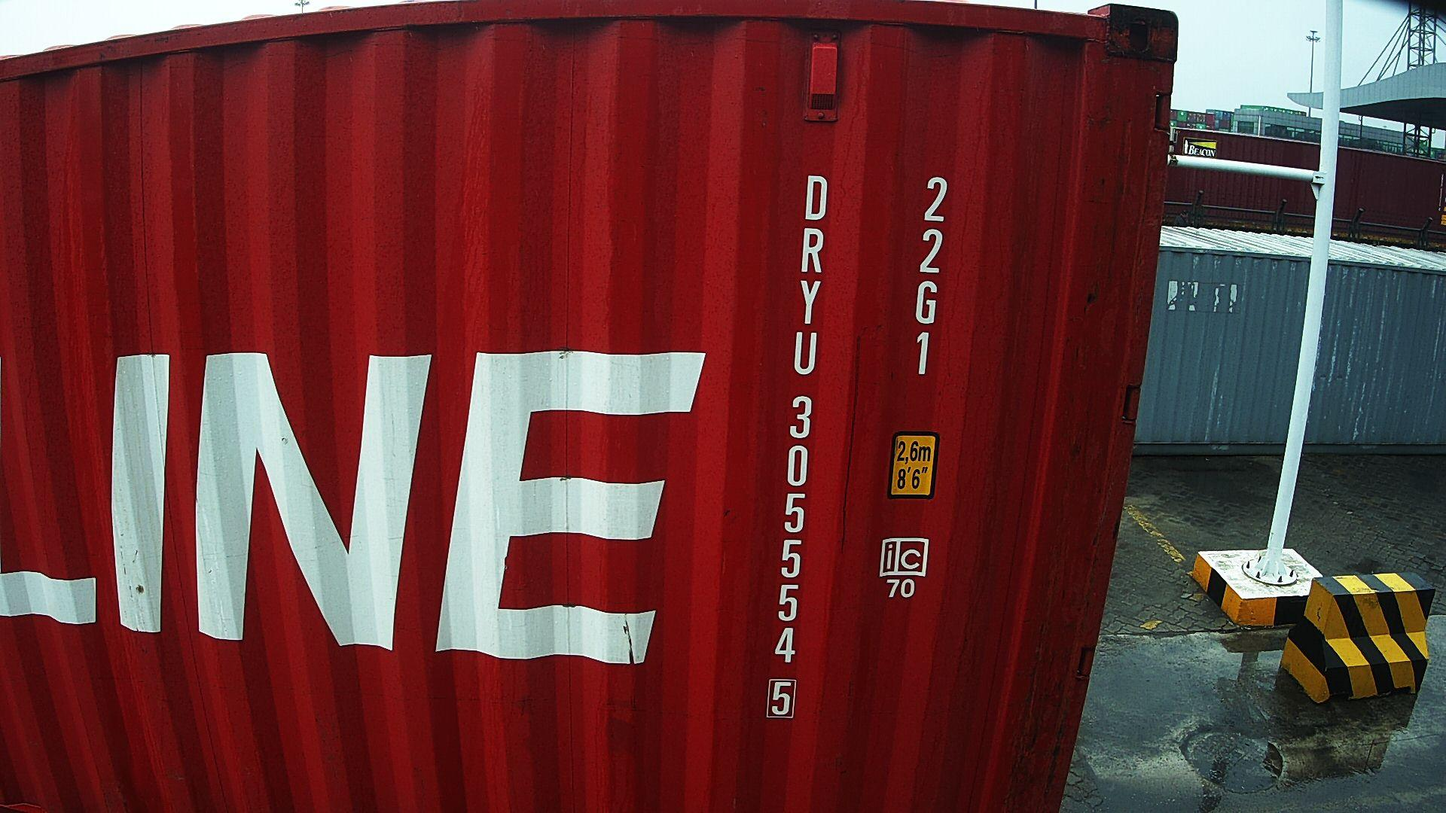container-numbers: (760, 168, 833, 727), (904, 171, 953, 382)
